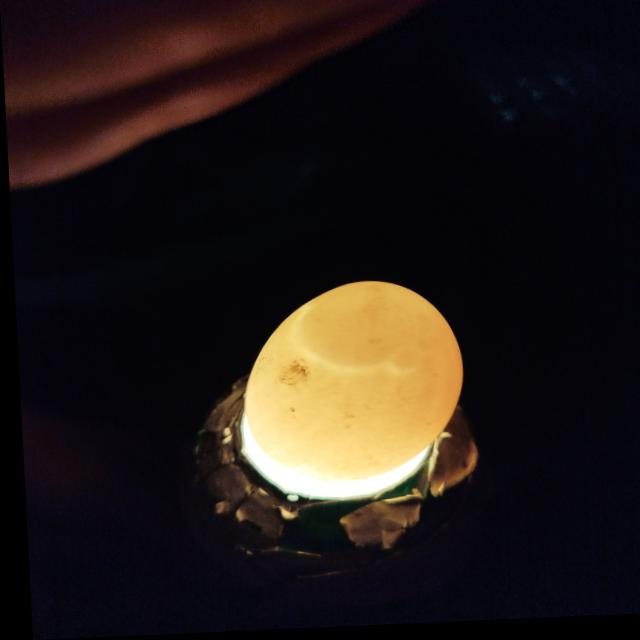Camara de Ar: (296, 285, 445, 376)
